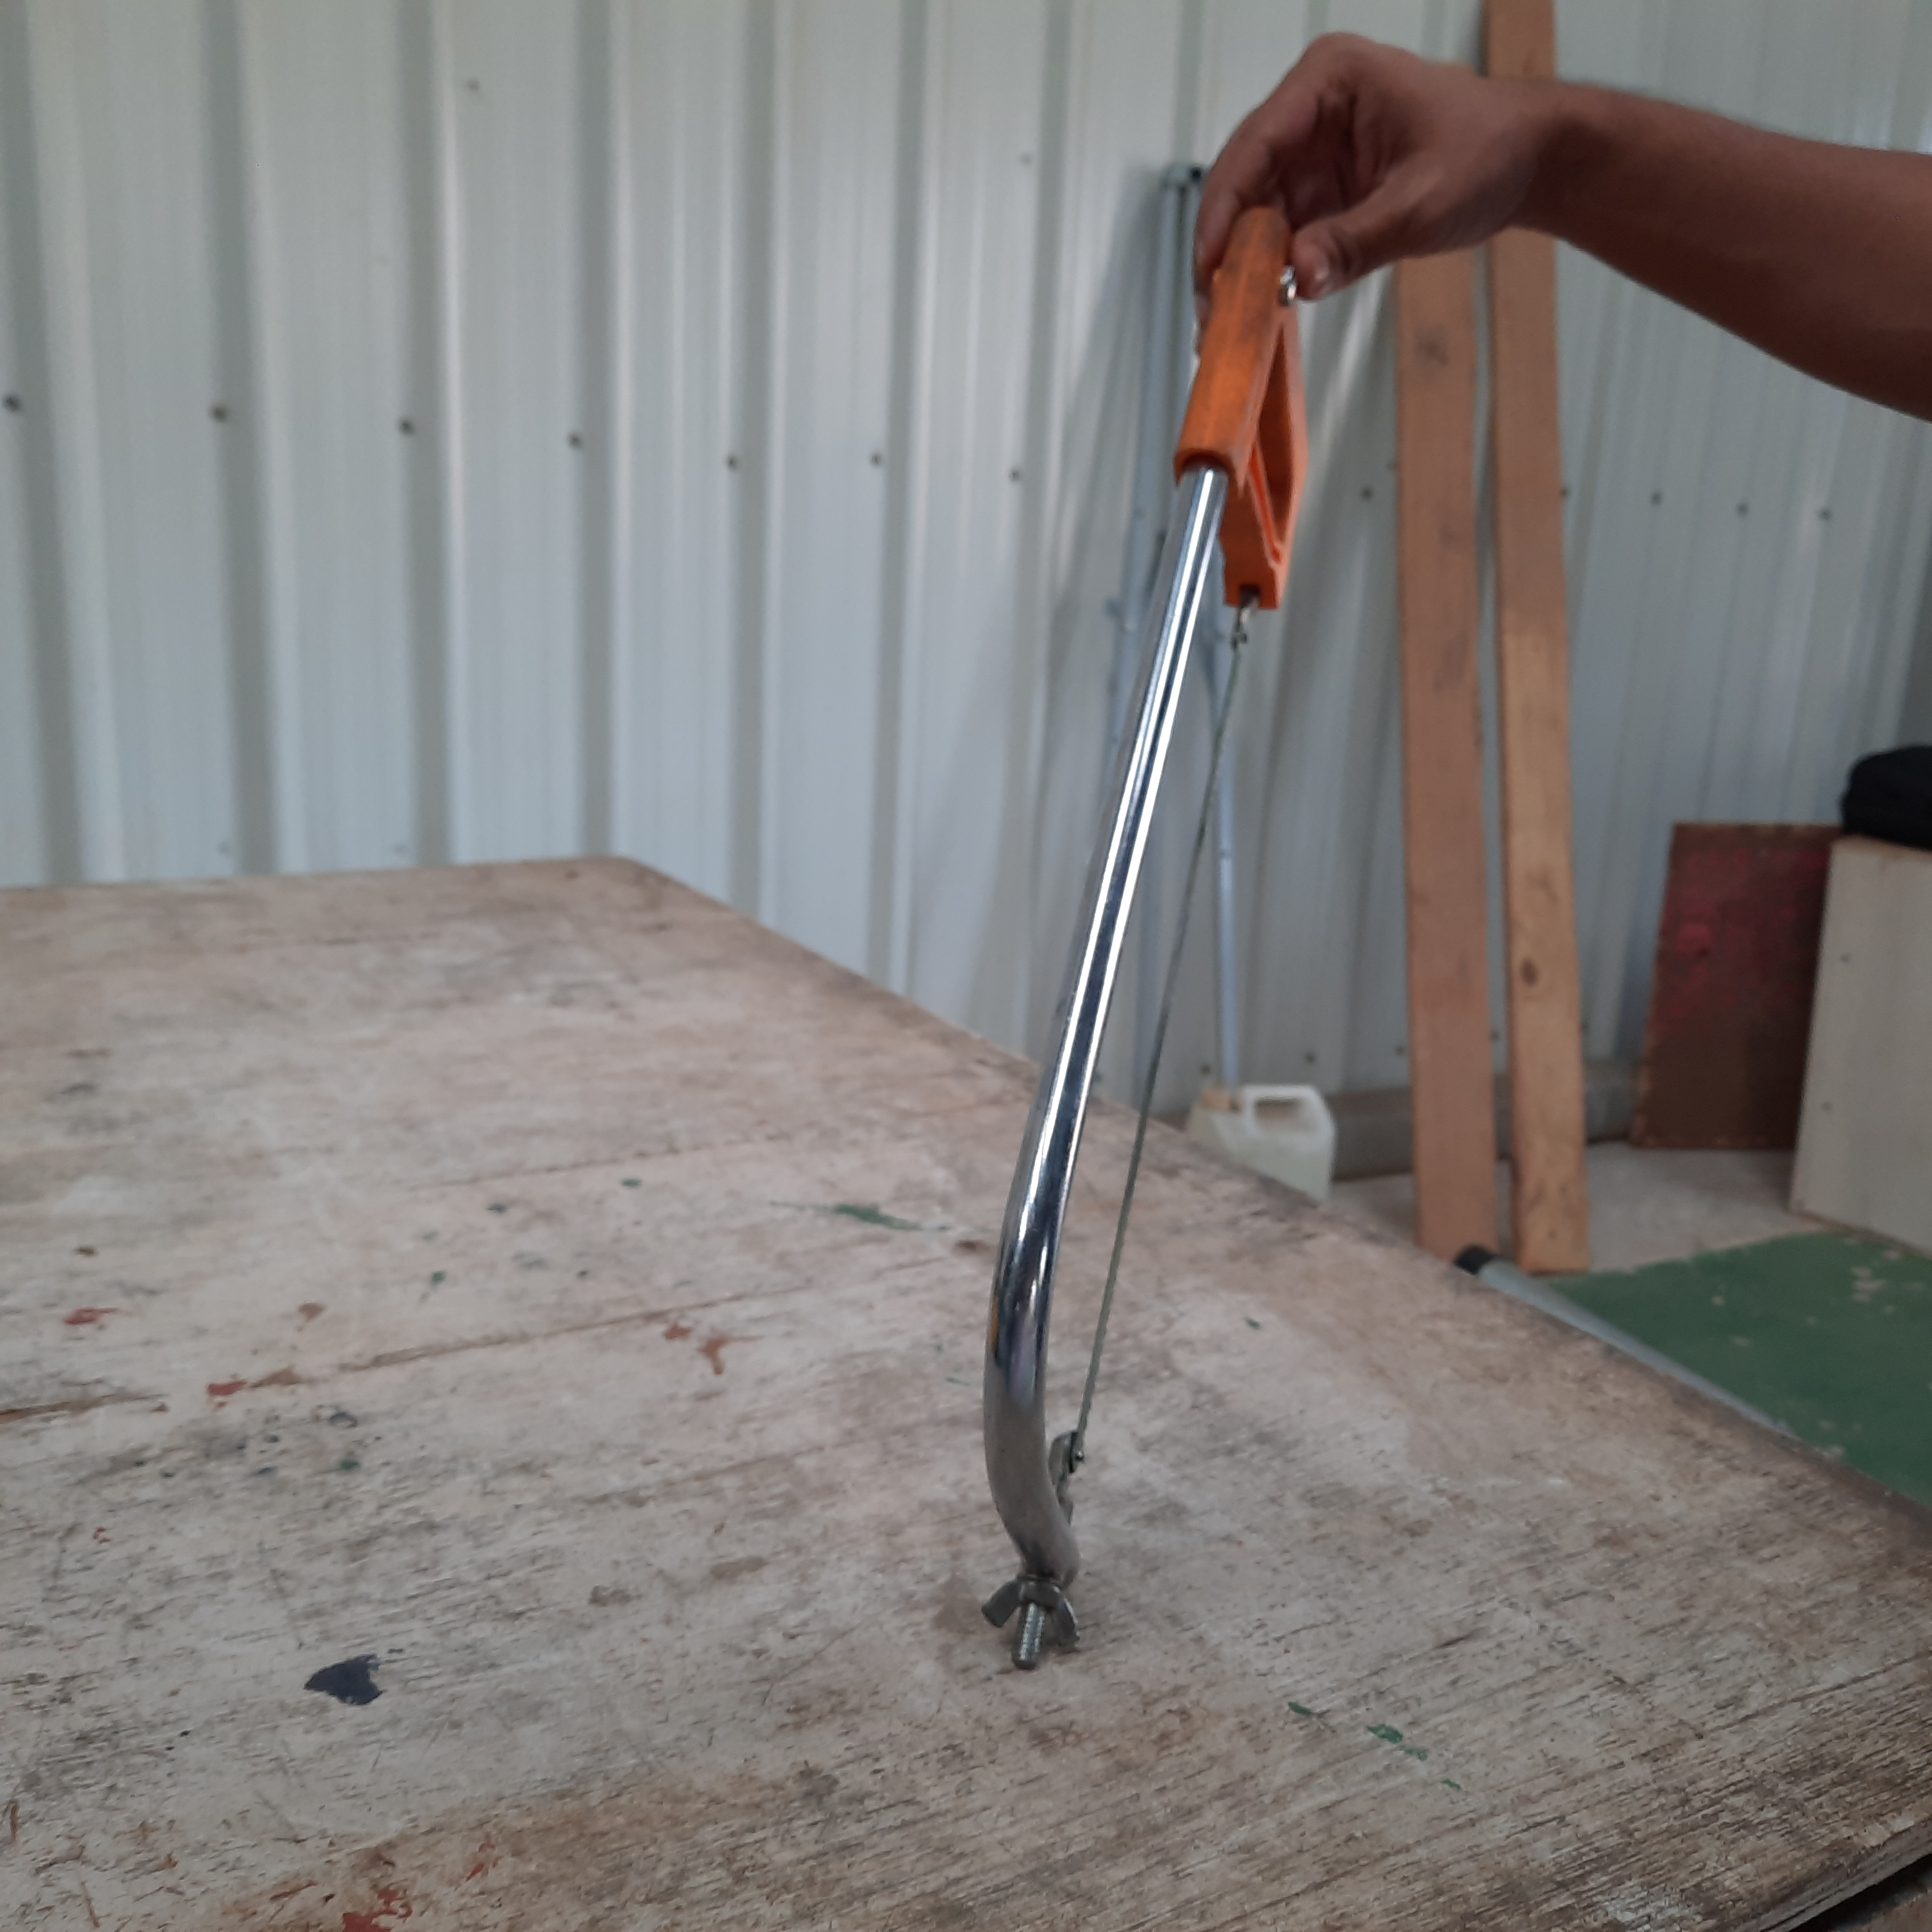Hexaframe: (941, 186, 1362, 1725)
